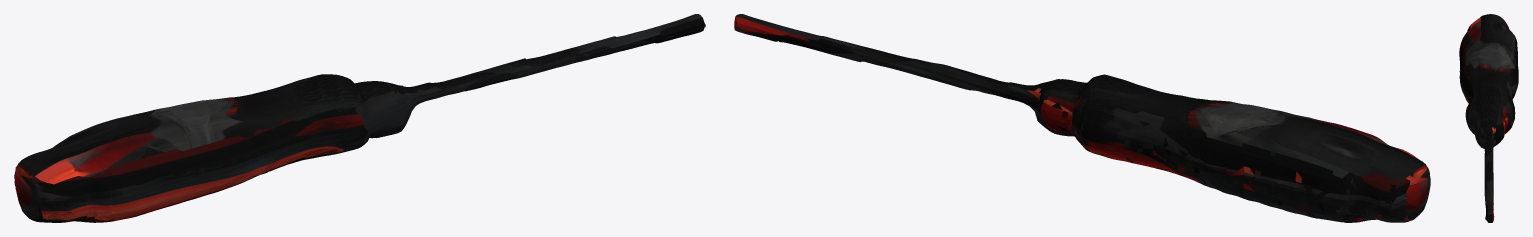
The model's file is modified_screwdriver.obj.
3 views of the same model, side by side, from view 1: azimuth 30°, elevation 25°; view 2: azimuth 150°, elevation 25°; view 3: azimuth 270°, elevation 25° (orthographic). The views are drawn at different scales.
Parts seen in each view (by area): view 1: real_flat_screwdriver; view 2: real_flat_screwdriver; view 3: real_flat_screwdriver.
Part boxes in pixels (bbox=[...]): real_flat_screwdriver: bbox=[14, 14, 705, 222]; real_flat_screwdriver: bbox=[734, 14, 1430, 222]; real_flat_screwdriver: bbox=[1459, 14, 1518, 222].
Bounding box in the file's own units: 0.2604 × 0.0301 × 0.0339.
